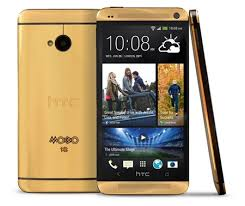htc: (95, 5, 193, 195), (14, 4, 98, 193)
